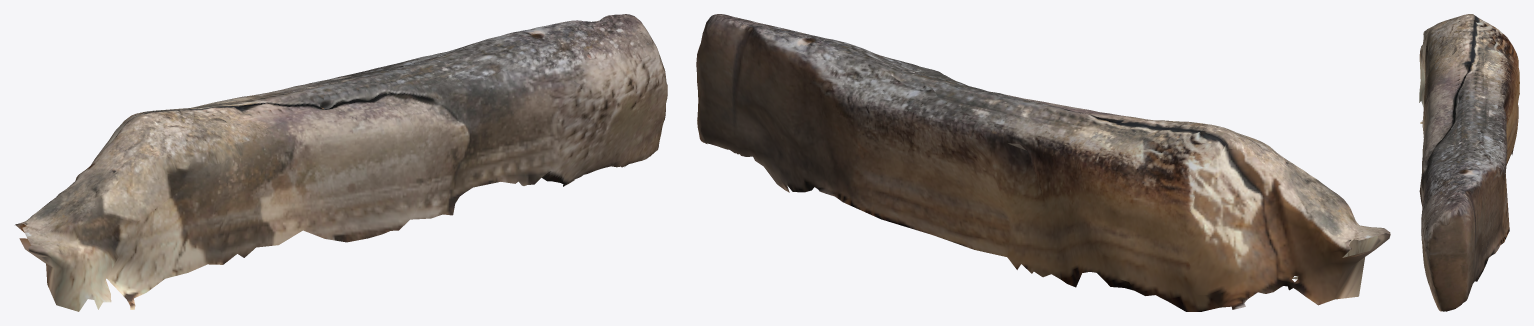
3 renders of one model, left to right at view 1: azimuth 30°, elevation 25°; view 2: azimuth 150°, elevation 25°; view 3: azimuth 270°, elevation 25°, orthographic. The views are drawn at different scales.
Visible parts, largest first — view 1: 2B_12_s; view 2: 2B_12_s; view 3: 2B_12_s.
Boxes of the visible parts, <box> form: 2B_12_s: <box>15,14,667,311</box>; 2B_12_s: <box>696,14,1390,311</box>; 2B_12_s: <box>1419,14,1519,311</box>.
Size of the model in its own units: 1.95 by 0.4694 by 0.3462.
1 material, 1 textured.
